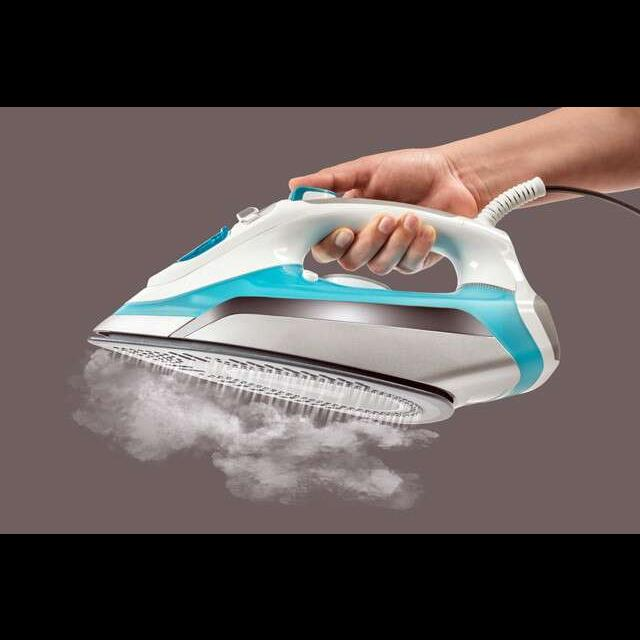Clothes-Iron: (141, 173, 541, 437)
